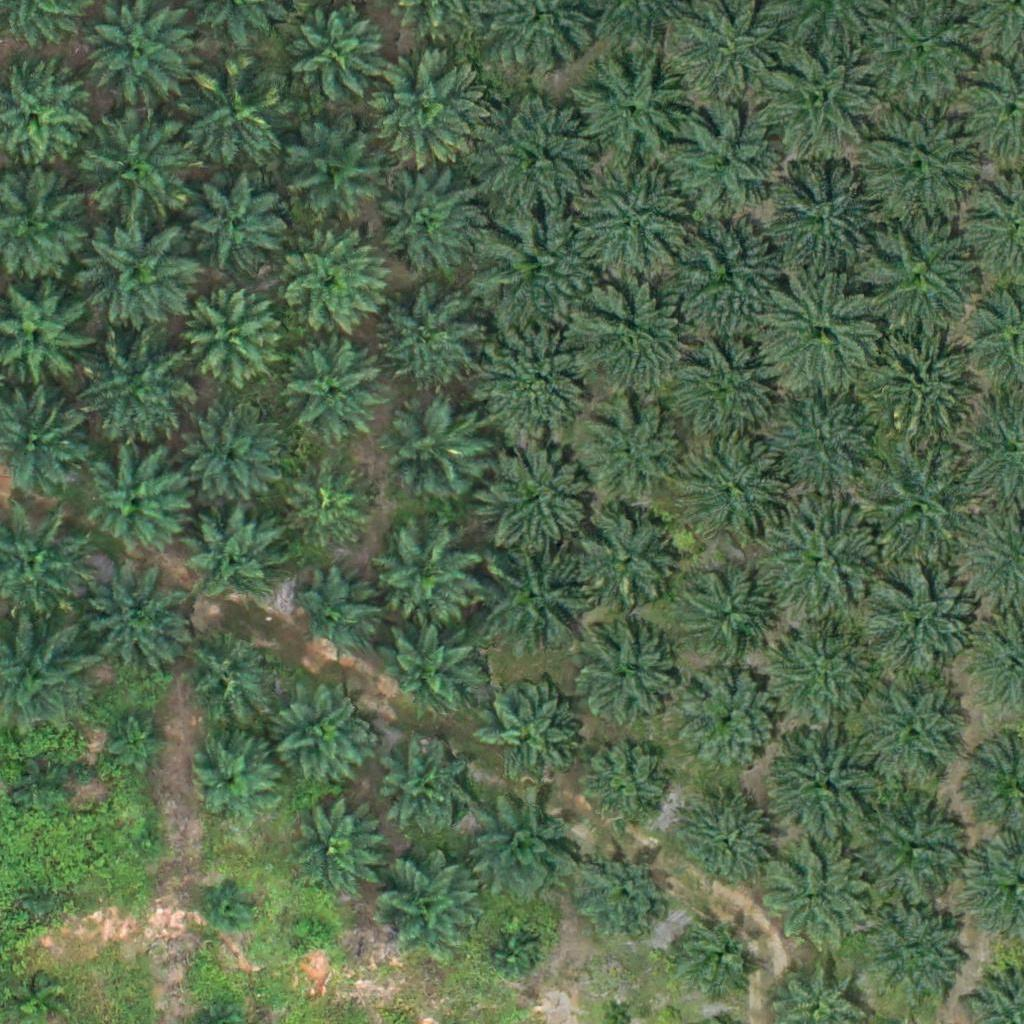Kelapa_Sawit: (77, 215, 202, 341), (366, 39, 491, 165), (362, 156, 487, 282), (479, 97, 604, 223), (479, 208, 604, 334), (755, 39, 880, 165), (763, 168, 888, 294), (856, 104, 981, 230), (476, 317, 601, 443), (567, 282, 692, 408), (760, 721, 885, 847), (757, 614, 882, 740), (757, 492, 882, 618), (759, 272, 884, 398), (867, 313, 992, 439), (857, 436, 982, 562), (858, 565, 983, 691), (851, 785, 976, 911), (574, 160, 699, 285), (471, 434, 596, 559), (760, 396, 873, 510), (80, 566, 193, 679), (78, 336, 191, 449), (571, 57, 684, 170), (671, 103, 784, 216), (480, 545, 593, 658), (471, 794, 584, 907), (856, 678, 969, 791), (858, 899, 971, 1012), (80, 112, 192, 226), (177, 63, 289, 177), (277, 230, 389, 344), (865, 223, 977, 336), (760, 844, 872, 957), (287, 7, 387, 108), (378, 618, 478, 719), (273, 687, 373, 788), (184, 411, 284, 512), (184, 505, 284, 606), (177, 624, 277, 725), (85, 451, 185, 552), (479, 685, 579, 786), (576, 633, 676, 734), (574, 512, 674, 613), (579, 400, 679, 501), (687, 442, 787, 543), (680, 671, 780, 772), (676, 796, 776, 897), (665, 905, 765, 1006), (378, 859, 478, 960), (191, 168, 291, 268), (281, 122, 381, 222), (378, 294, 478, 394), (386, 402, 486, 502), (374, 528, 474, 628), (285, 344, 385, 444), (182, 289, 282, 389), (668, 335, 768, 435), (281, 799, 381, 899), (678, 222, 777, 322), (293, 572, 381, 660), (286, 464, 374, 552), (380, 742, 468, 830), (683, 576, 771, 664), (191, 739, 278, 828), (580, 850, 667, 939), (579, 743, 666, 831), (107, 707, 169, 770), (486, 927, 536, 978), (18, 765, 68, 815), (205, 878, 255, 928), (295, 913, 333, 951), (24, 880, 61, 918), (129, 825, 166, 863)
